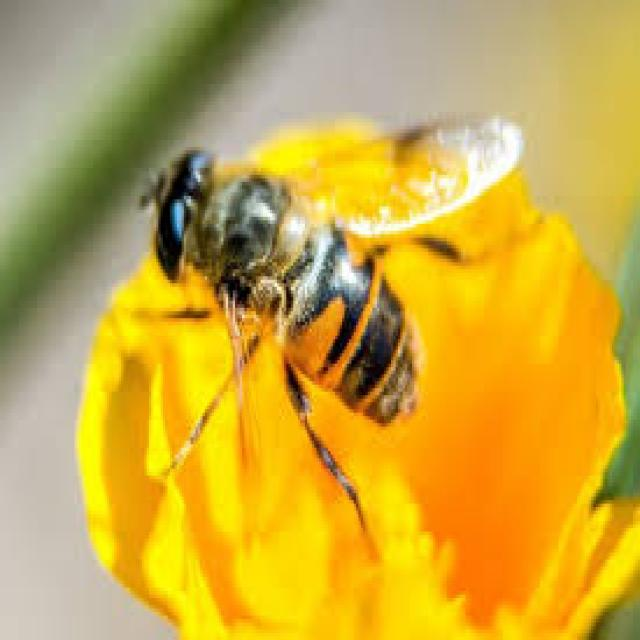Bees: (150, 114, 525, 549)
